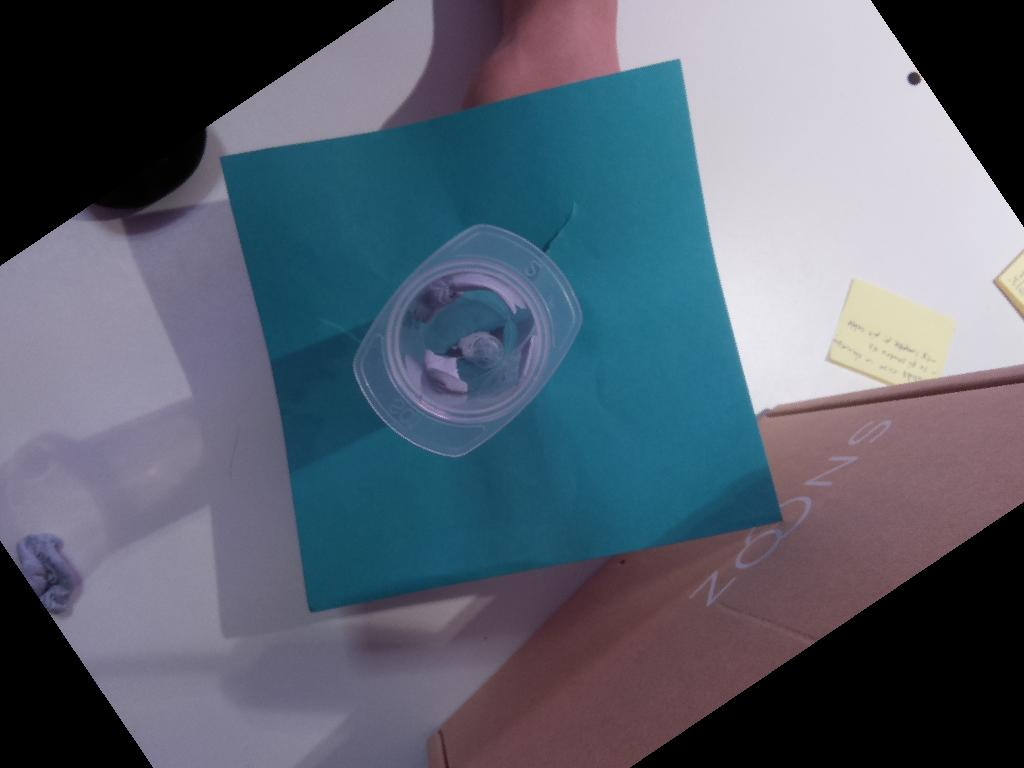dirty: (352, 223, 583, 458)
